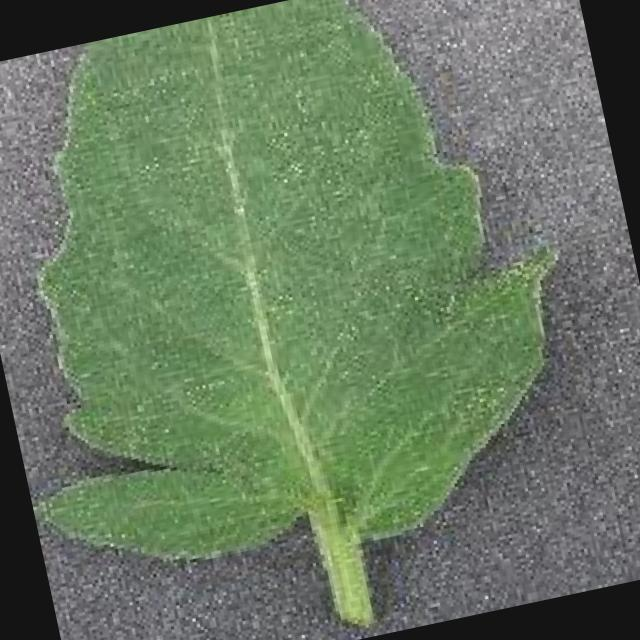healthy: (32, 0, 555, 616)
